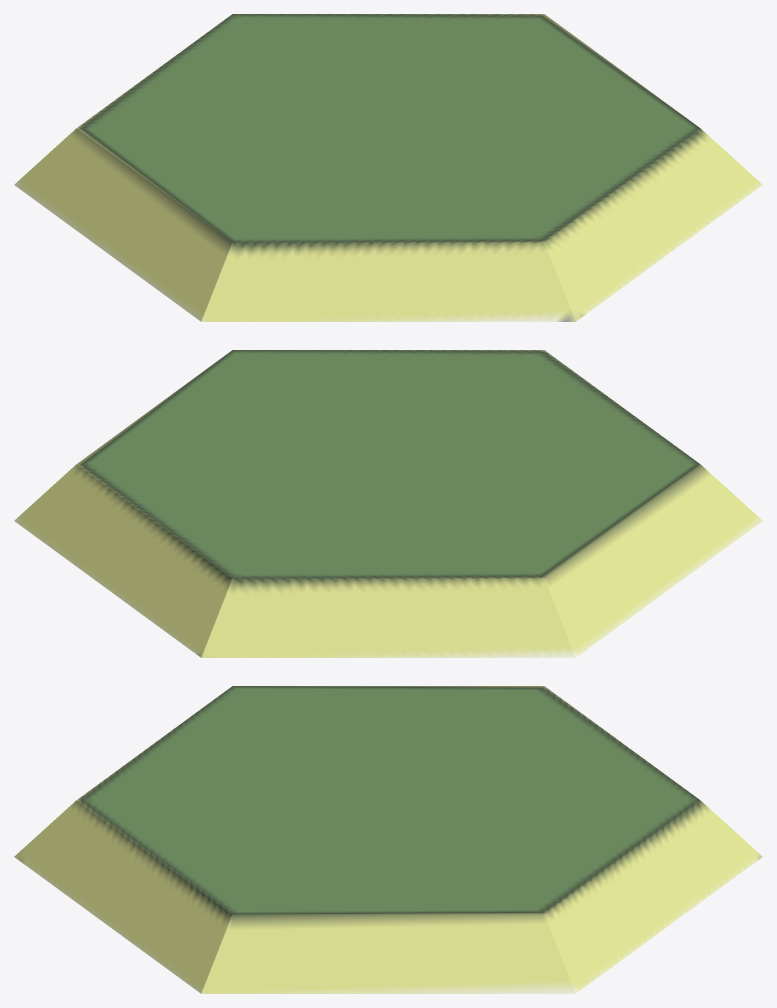
The model's file is Hex_Plains_Shore.fbx.
3 renders of one model, top to bottom at view 1: azimuth 30°, elevation 25°; view 2: azimuth 150°, elevation 25°; view 3: azimuth 270°, elevation 25°, orthographic.
Visible parts, largest first — view 1: Hex_Grassland_Shore; view 2: Hex_Grassland_Shore; view 3: Hex_Grassland_Shore.
Boxes of the visible parts, x1,y1,x2,y2 form: Hex_Grassland_Shore: (14,14,762,321); Hex_Grassland_Shore: (14,350,762,657); Hex_Grassland_Shore: (14,686,762,993).
Size of the model in its own units: 1039 by 100 by 1200.
1 material, 1 textured.
